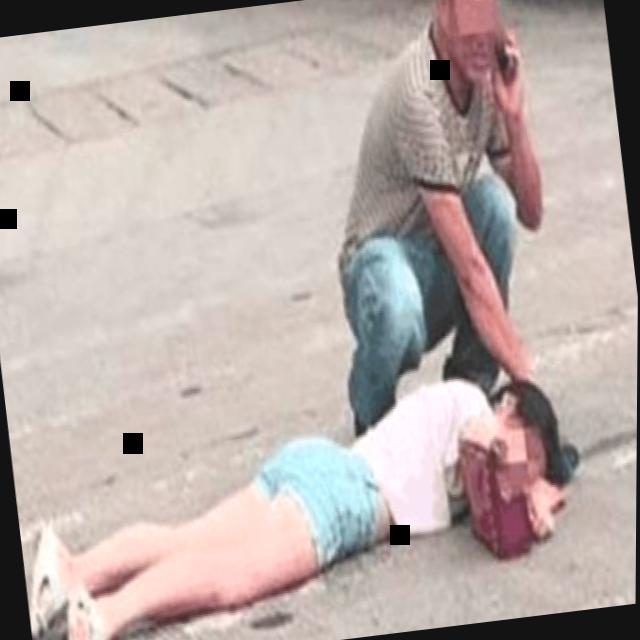Fall-Detected: (3, 326, 604, 640)
